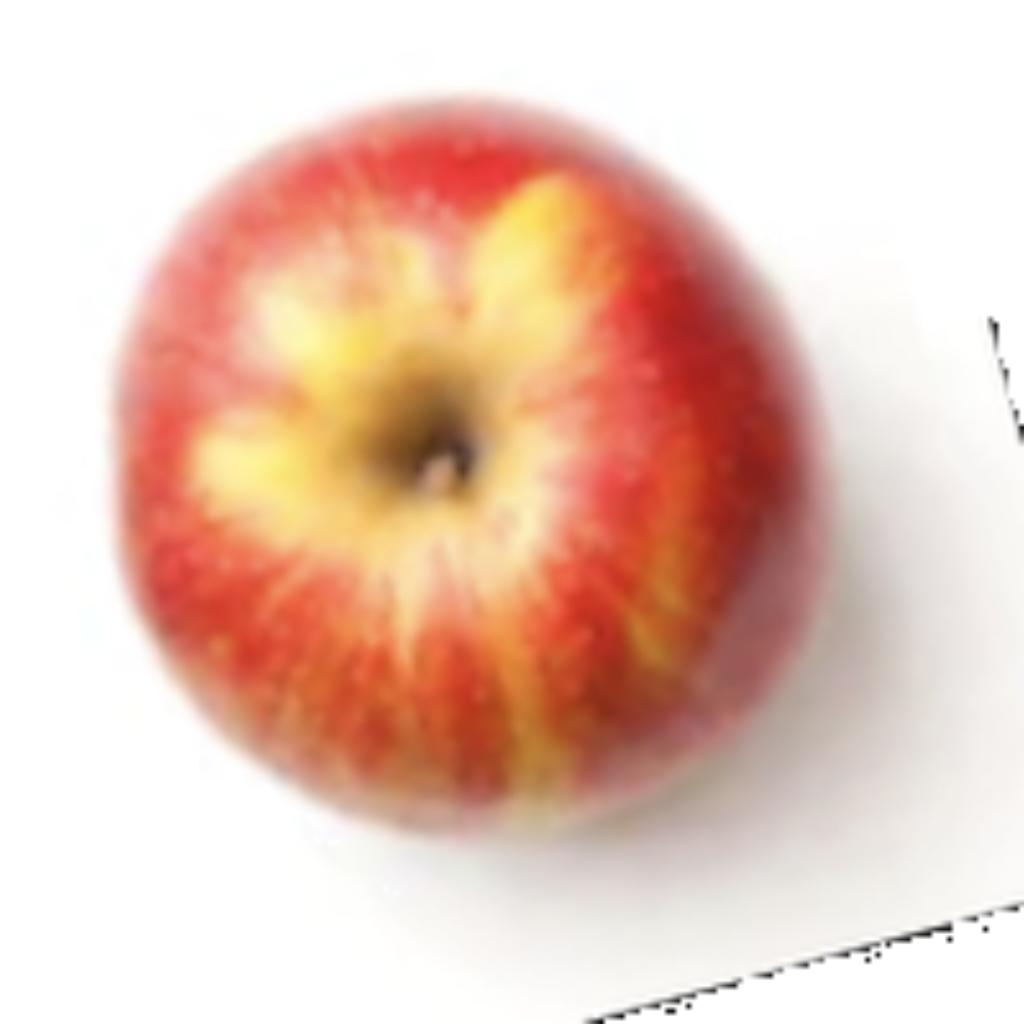apple: (97, 82, 916, 916)
